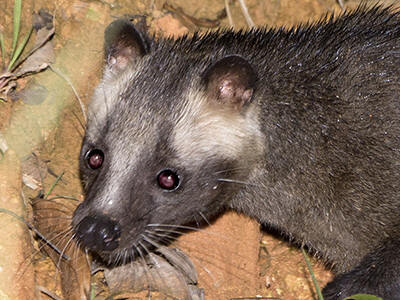Civet: (66, 9, 400, 278)
